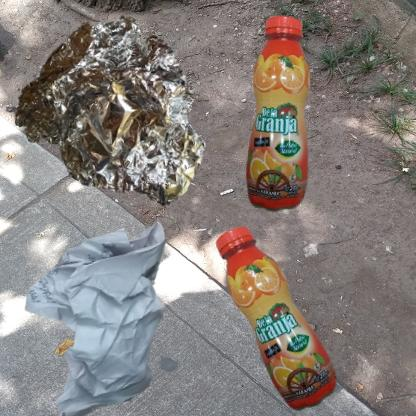aluminio: (10, 10, 213, 209)
botella: (213, 10, 377, 259), (213, 213, 359, 416)
papel: (10, 213, 215, 416)
